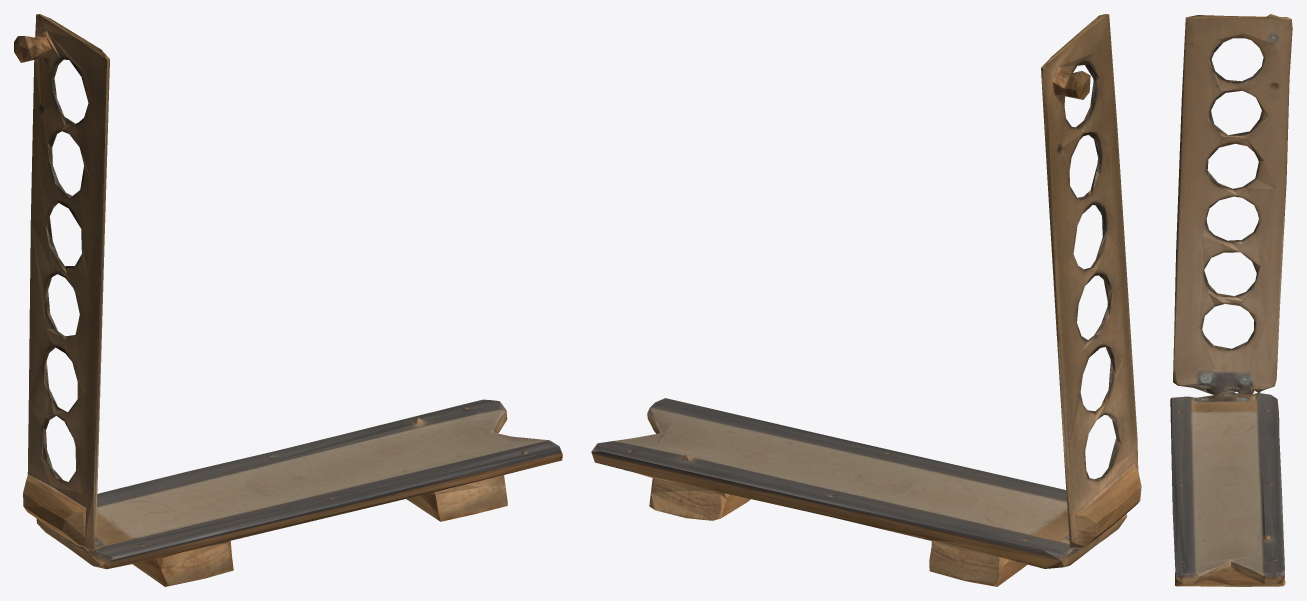
3 views of the same model, side by side, from view 1: azimuth 30°, elevation 25°; view 2: azimuth 150°, elevation 25°; view 3: azimuth 270°, elevation 25° (orthographic). The views are drawn at different scales.
Parts seen in each view (by area): view 1: Pfingstrosen Schablone_0.8k_512; view 2: Pfingstrosen Schablone_0.8k_512; view 3: Pfingstrosen Schablone_0.8k_512.
Part boxes in pixels (box(x1,y1,x2,y2)): Pfingstrosen Schablone_0.8k_512: box(14, 14, 562, 586); Pfingstrosen Schablone_0.8k_512: box(591, 14, 1141, 586); Pfingstrosen Schablone_0.8k_512: box(1170, 14, 1292, 586).
Size of the model in its own units: 0.299 by 0.3163 by 0.0827.
1 material, 1 textured.
